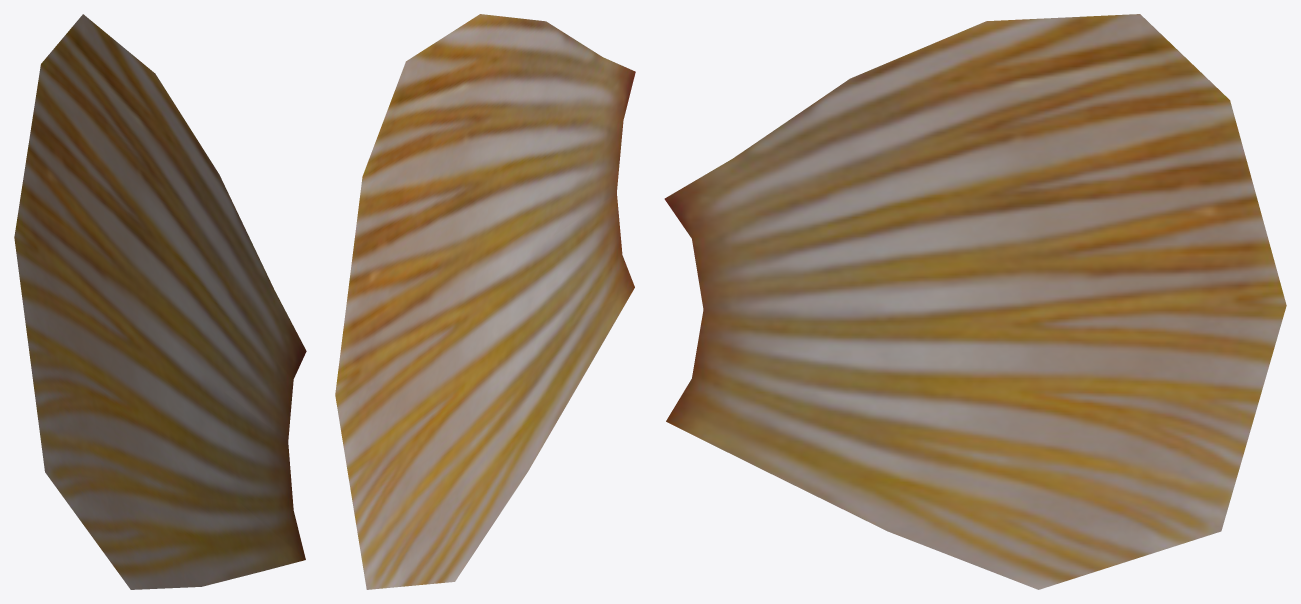
Rendered from PufferCola.obj.
3 renders of one model, left to right at view 1: azimuth 30°, elevation 25°; view 2: azimuth 150°, elevation 25°; view 3: azimuth 270°, elevation 25°, orthographic. The views are drawn at different scales.
Parts seen in each view (by area): view 1: PufferCola:polySurface8; view 2: PufferCola:polySurface8; view 3: PufferCola:polySurface8.
Boxes of the visible parts, x1,y1,x2,y2 form: PufferCola:polySurface8: [14, 14, 306, 589]; PufferCola:polySurface8: [335, 14, 635, 589]; PufferCola:polySurface8: [664, 14, 1286, 589].
Size of the model in its own units: 0.000363 by 0.1852 by 0.1814.
Materials: 1 (1 with a texture image).
